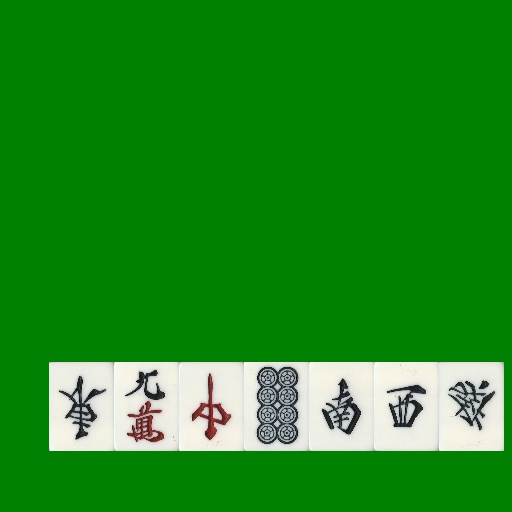8p: (244, 362, 309, 451)
9m: (114, 362, 179, 451)
east: (49, 362, 114, 451)
hatsu: (439, 362, 504, 451)
south: (309, 362, 374, 451)
tyun: (179, 362, 244, 451)
west: (374, 362, 439, 451)
